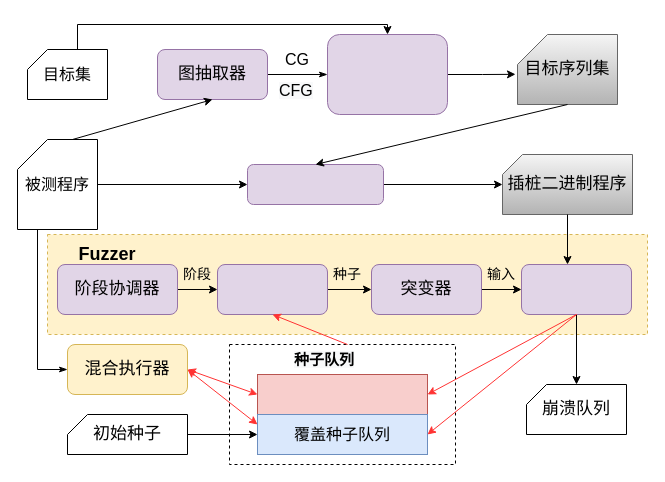
The diagram is 665 pixels wide and 482 high, and some of its shapes have lost their labels. Here are the shapes that lost their labels. From the top down, the centre of each, then its label:
At (387,74): "目标序列生成器".
At (315,184): "插桩器".
At (272,289): "种子选择器".
At (576,289): "执行器".
At (342,394): "导向种子队列".
